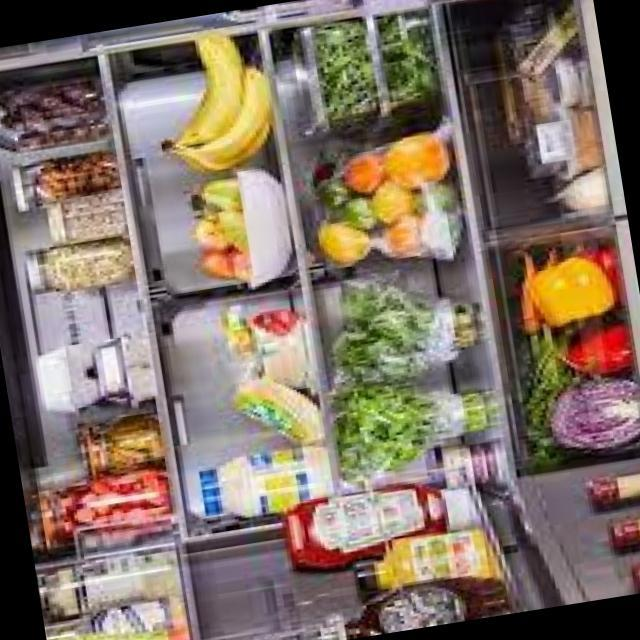Plátano: (121, 18, 310, 188)
peppers: (530, 231, 640, 392)
spinach: (289, 0, 456, 137)
